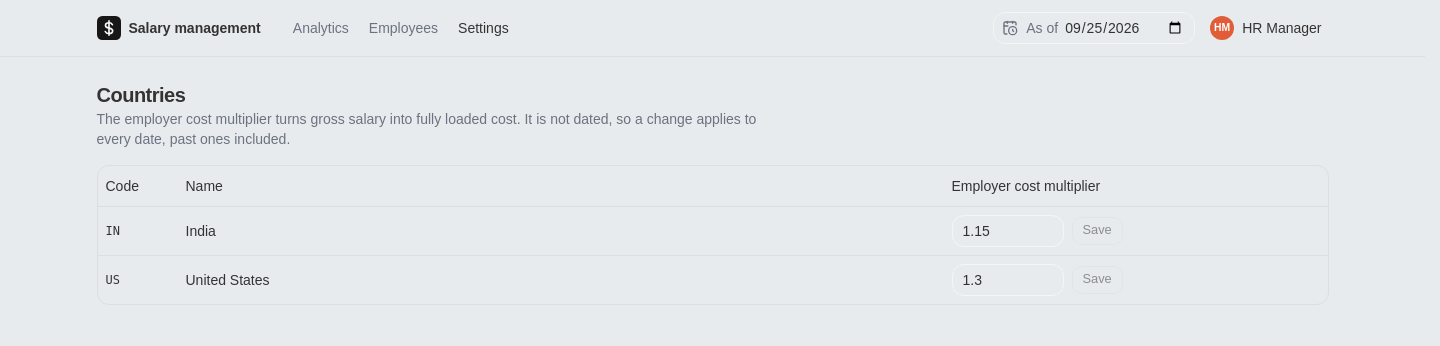
Test: countries › puts a 422 on the row it belongs to
Step 1. Replace the text in the field labelled "United States" with "99.5" → (1008,280), box [952,264,1064,296]
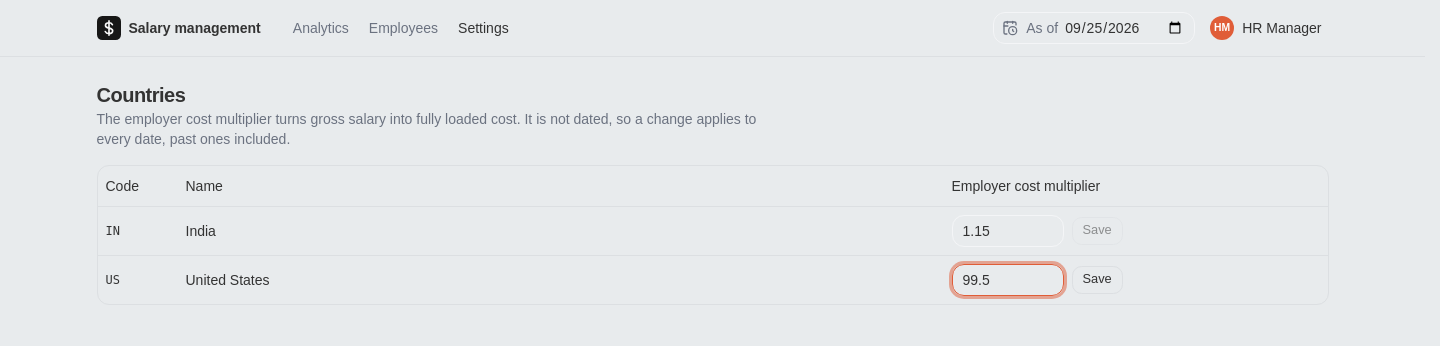
Step 2. Click the button "Save" in the row of "US" → (1097,280), box [1072,266,1123,294]
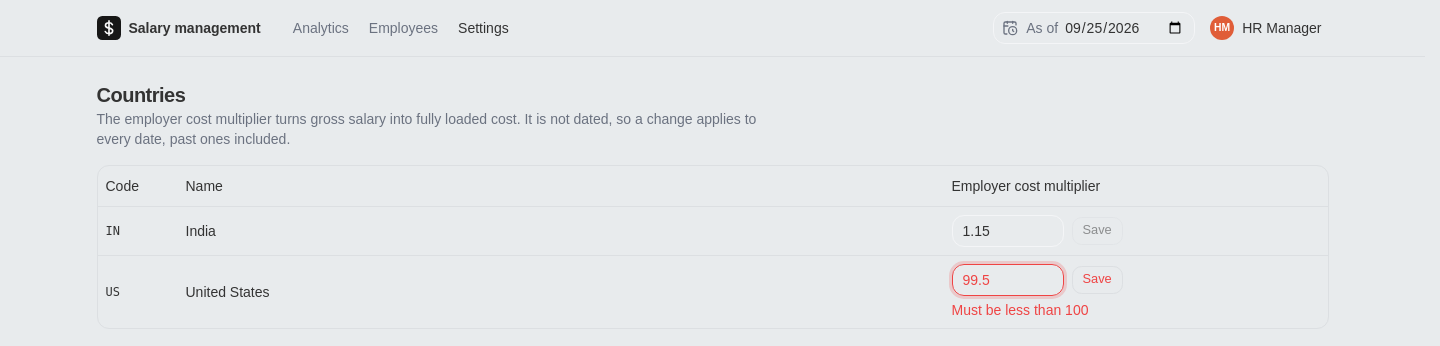
Result: the text "Must be less than 100" is shown at [952,302,1088,318]
